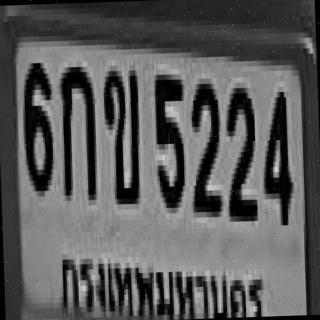A01: (57, 61, 96, 195)
A02: (101, 65, 140, 199)
N02: (223, 82, 256, 216), (187, 78, 220, 212)
N04: (258, 86, 291, 220)
N05: (152, 69, 186, 208)
N06: (21, 57, 52, 191)
P04: (59, 242, 264, 320)
